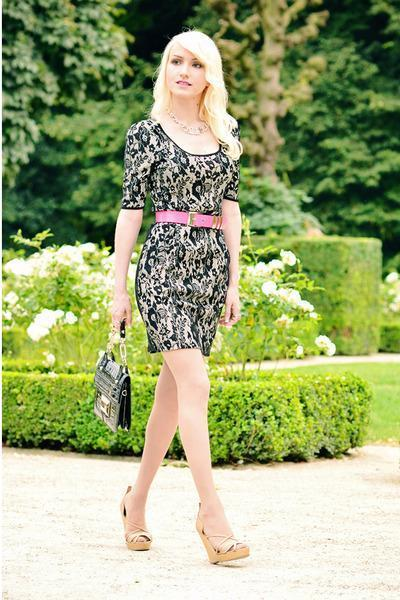bag: (92, 354, 133, 431)
dress: (108, 122, 238, 356)
shoe: (126, 528, 221, 563)
